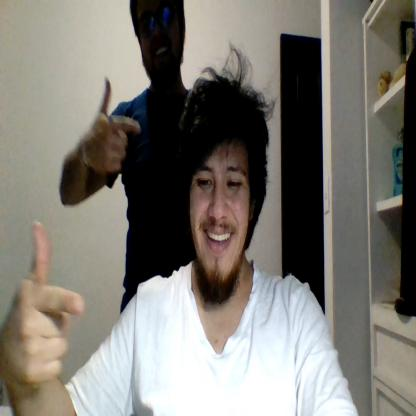G: (5, 221, 85, 396), (87, 75, 141, 171)
